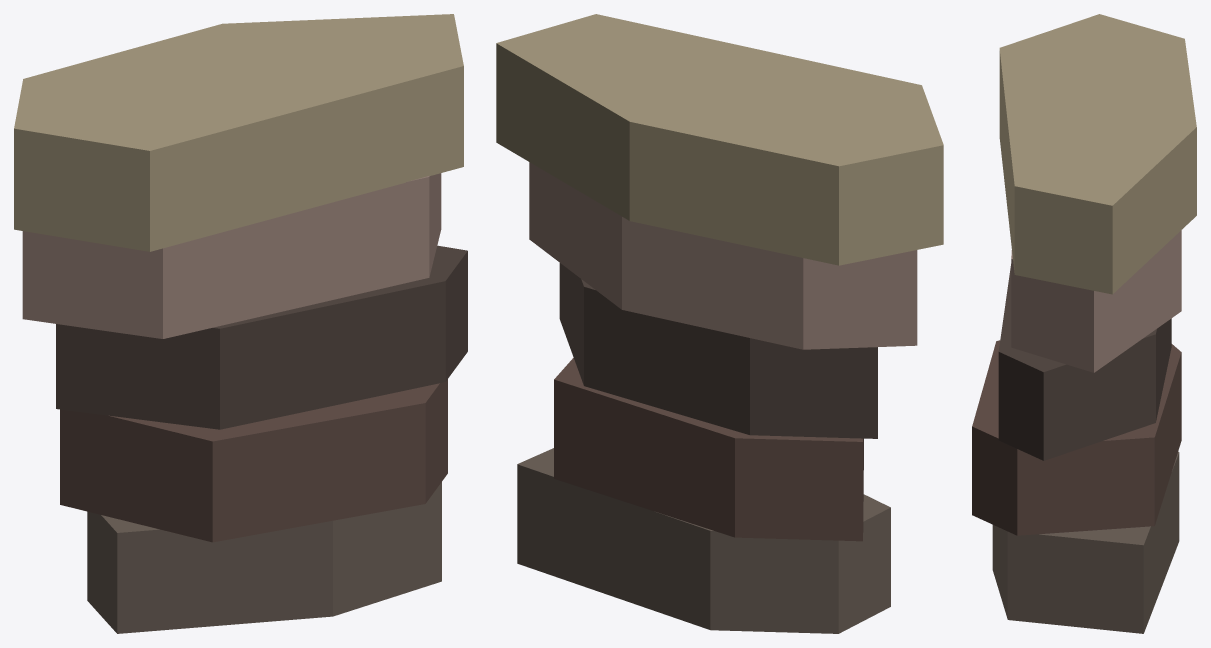
The model's file is 地形块A.FBX.
3 views of the same model, side by side, from view 1: azimuth 30°, elevation 25°; view 2: azimuth 150°, elevation 25°; view 3: azimuth 270°, elevation 25° (orthographic). The views are drawn at different scales.
Visible parts, largest first — view 1: 地形块A; view 2: 地形块A; view 3: 地形块A.
Boxes of the visible parts, left/top/right/bottom form: 地形块A: left=14, top=14, right=467, bottom=633; 地形块A: left=496, top=14, right=943, bottom=633; 地形块A: left=972, top=14, right=1196, bottom=633.
Size of the model in its own units: 3.71 by 4.01 by 1.84.
1 material, 1 textured.
